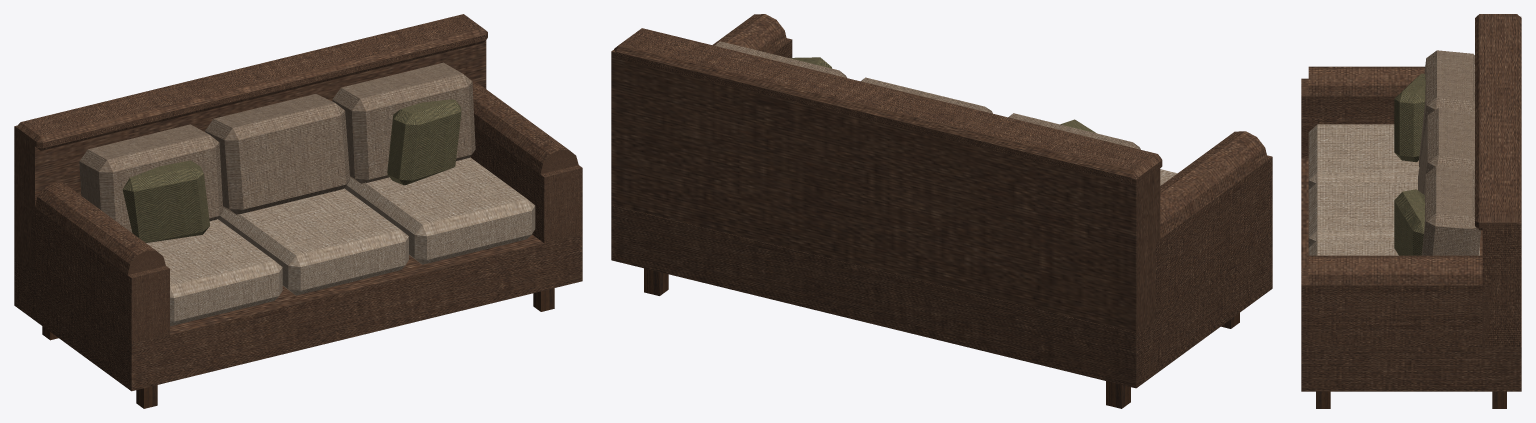
Rendered from couch.glb.
3 renders of one model, left to right at view 1: azimuth 30°, elevation 25°; view 2: azimuth 150°, elevation 25°; view 3: azimuth 270°, elevation 25°, orthographic. The views are drawn at different scales.
Parts seen in each view (by area): view 1: core_couch; view 2: core_couch; view 3: core_couch.
Part boxes in pixels (bbox=[...]): core_couch: bbox=[14, 14, 582, 408]; core_couch: bbox=[611, 14, 1272, 408]; core_couch: bbox=[1301, 14, 1521, 408].
Size of the model in its own units: 2 by 0.9 by 0.9.
Materials: 1 (1 with a texture image).
